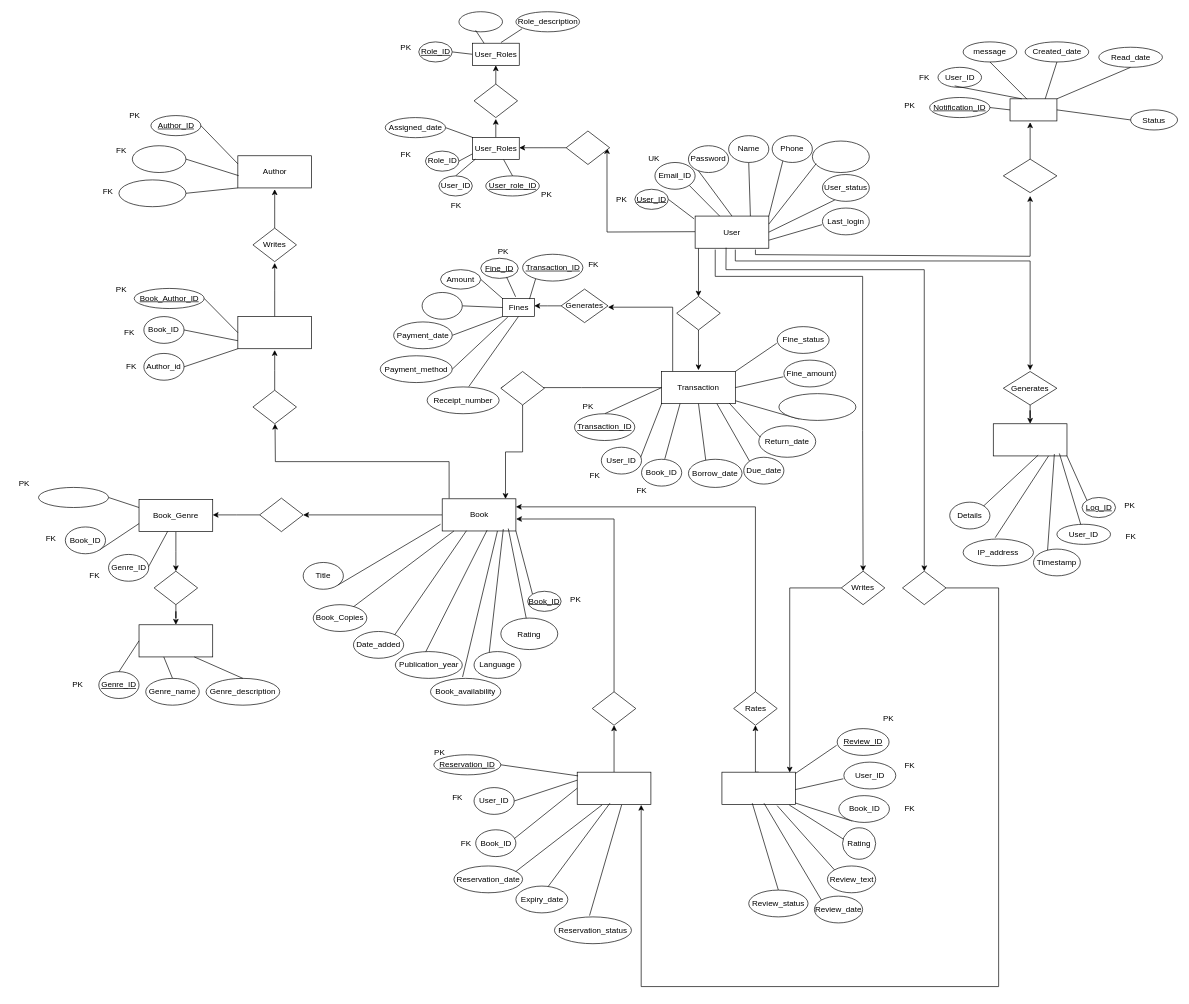
Image size: 1189x1004. Some labels were removed from this diagram. Here are the shapes that lost their labels. From the top down, the centre of each, then its label:
At pixel 480 21: "Role_name".
At pixel 495 100: "Assigned".
At pixel 1033 109: "Notifications".
At pixel 159 159: "Author_name".
At pixel 587 147: "Has".
At pixel 840 156: "Register_date".
At pixel 152 193: "Author_biography".
At pixel 1030 175: "Receives".
At pixel 441 305: "Fine_date".
At pixel 698 313: "Makes".
At pixel 274 332: "Book_Author".
At pixel 274 407: "Written".
At pixel 522 388: "Borrows".
At pixel 817 406: "Transaction_status".
At pixel 1030 439: "Audit_log".
At pixel 73 497: "Book_Genre_ID".
At pixel 281 514: "Genred".
At pixel 175 588: "Category".
At pixel 924 588: "Places".
At pixel 175 640: "Genre".
At pixel 614 708: "Reserve".
At pixel 614 788: "Reservation".
At pixel 758 788: "Review".
